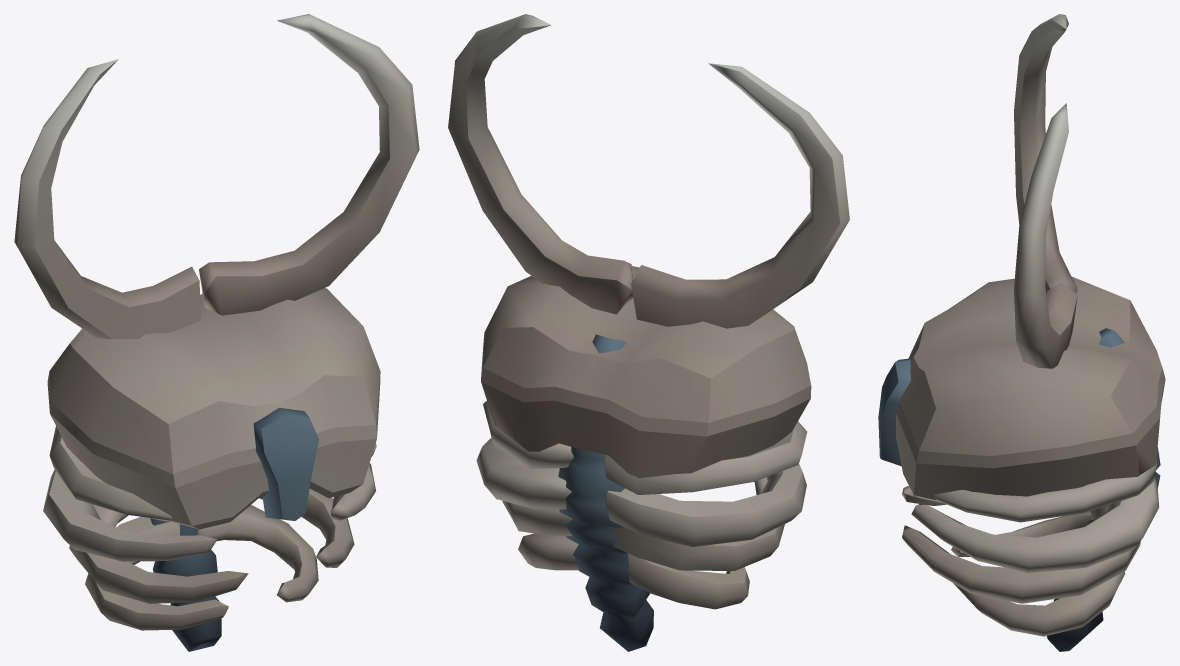
Rendered from robotbody.fbx.
3 renders of one model, left to right at view 1: azimuth 30°, elevation 25°; view 2: azimuth 150°, elevation 25°; view 3: azimuth 270°, elevation 25°, orthographic. The views are drawn at different scales.
Parts seen in each view (by area): view 1: robotBodyChestplate, robotBodyRibsSingle, robotBodyRibs; view 2: robotBodyChestplate, robotBodyRibs, robotBodyRibsSingle; view 3: robotBodyChestplate, robotBodyRibs, robotBodyRibsSingle.
Boxes of the visible parts, x1,y1,x2,y2 form: robotBodyChestplate: (47, 288, 380, 529); robotBodyRibsSingle: (14, 14, 419, 338); robotBodyRibs: (43, 426, 376, 651); robotBodyChestplate: (481, 266, 811, 478); robotBodyRibs: (476, 334, 807, 651); robotBodyRibsSingle: (448, 14, 849, 328); robotBodyChestplate: (878, 276, 1165, 503); robotBodyRibs: (902, 328, 1160, 651); robotBodyRibsSingle: (1014, 14, 1077, 368).
Bounding box in the file's own units: 5.04 × 7.35 × 3.26.
Materials: 1 (1 with a texture image).
